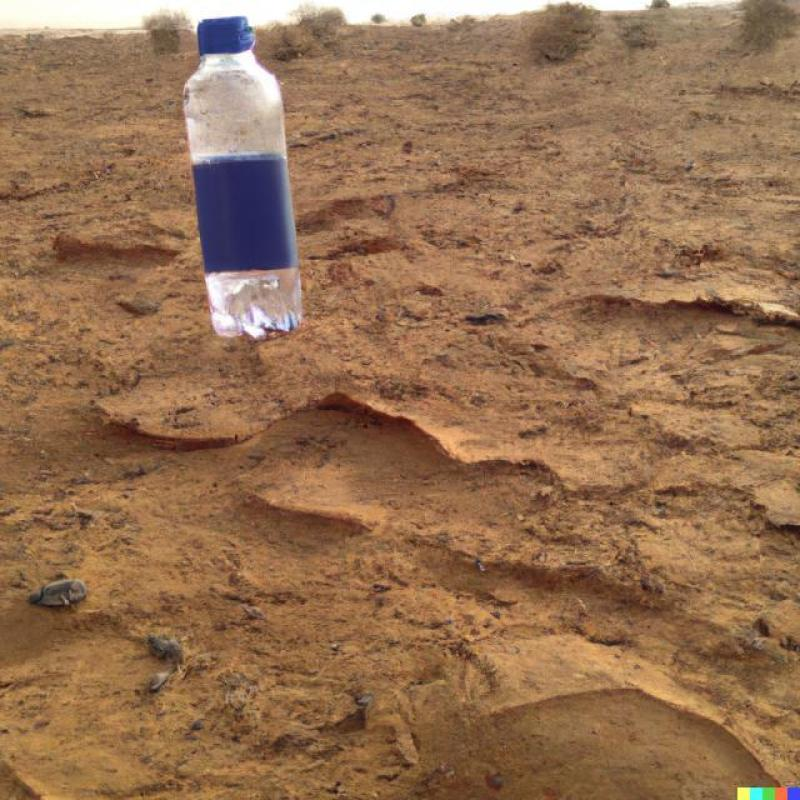botella: (182, 15, 306, 337)
